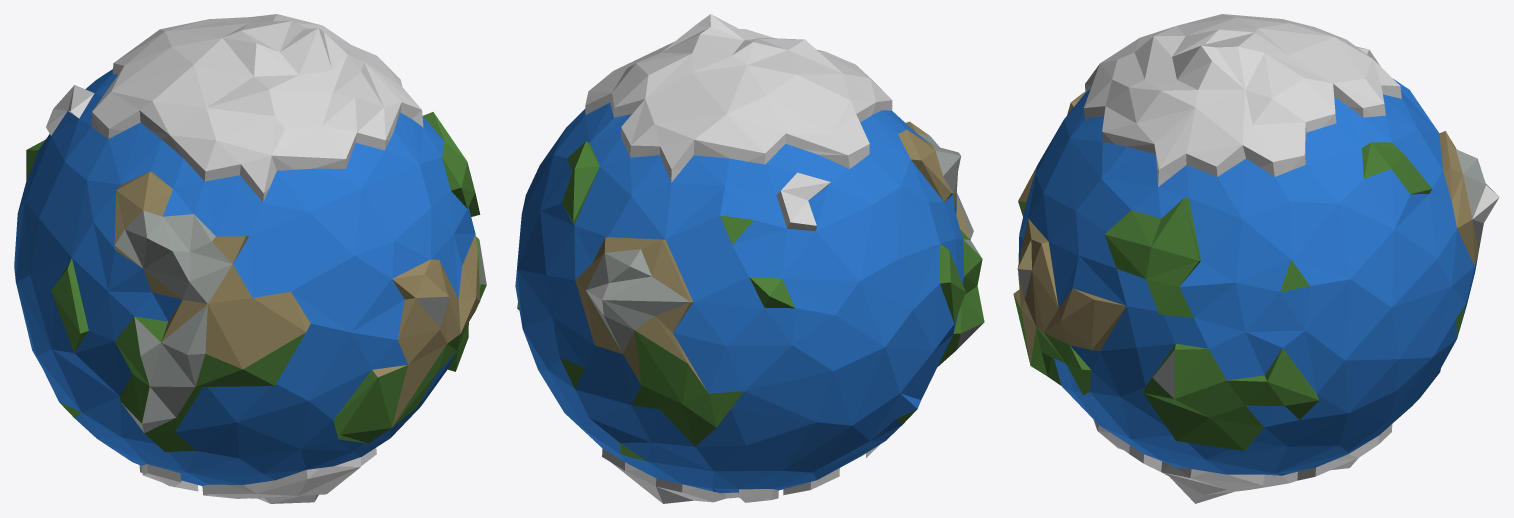
Rendered from planet_lowblend4.fbx.
3 renders of one model, left to right at view 1: azimuth 30°, elevation 25°; view 2: azimuth 150°, elevation 25°; view 3: azimuth 270°, elevation 25°, orthographic. The views are drawn at different scales.
Visible parts, largest first — view 1: Icosphere; view 2: Icosphere; view 3: Icosphere.
Part boxes in pixels (x1=…): Icosphere: x1=14, y1=14, x2=486, y2=503; Icosphere: x1=515, y1=14, x2=984, y2=503; Icosphere: x1=1013, y1=14, x2=1499, y2=503.
Size of the model in its own units: 207 by 225 by 215.
